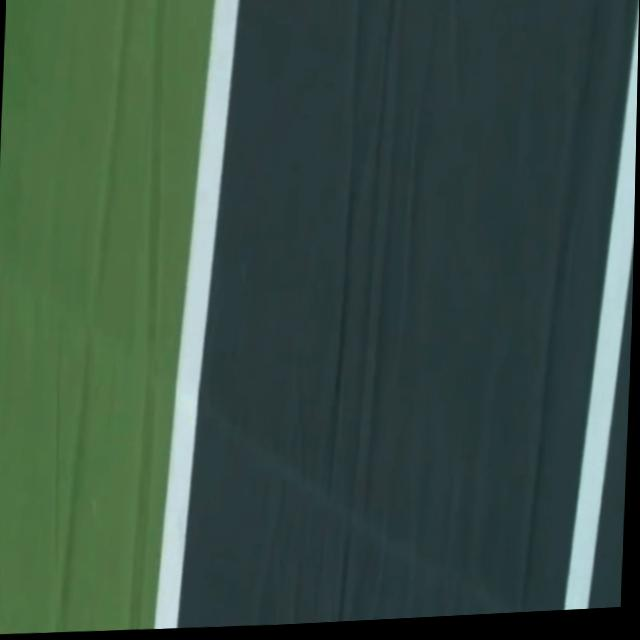center: (564, 0, 639, 610)
right: (155, 0, 239, 629)
